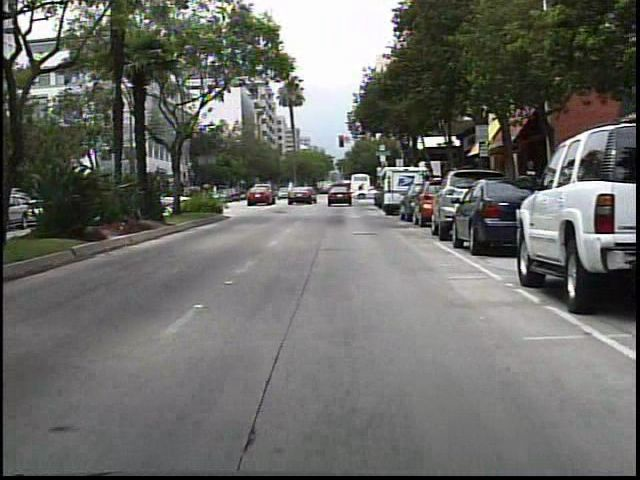person: (354, 181, 371, 202), (299, 184, 313, 205)
